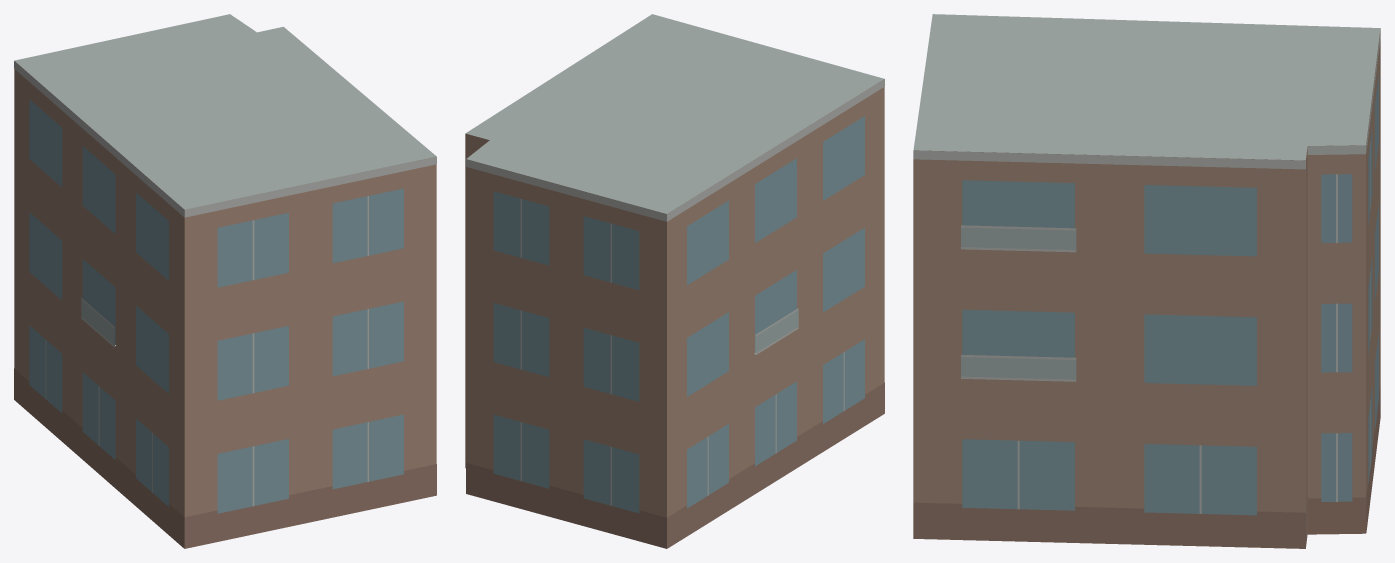
File: survey-upis-32599741.glb
The picture shows the model from 3 angles, left to right: view 1: azimuth 30°, elevation 25°; view 2: azimuth 150°, elevation 25°; view 3: azimuth 270°, elevation 25°; orthographic projection. The views are drawn at different scales.
Visible parts, largest first — view 1: survey-upis-32599741.tmp; view 2: survey-upis-32599741.tmp; view 3: survey-upis-32599741.tmp.
Part boxes in pixels (x1,y1,x2,y2): survey-upis-32599741.tmp: [14, 14, 436, 548]; survey-upis-32599741.tmp: [465, 14, 884, 548]; survey-upis-32599741.tmp: [913, 14, 1380, 548].
Bounding box in the file's own units: 8.5 × 10.5 × 11.45.
